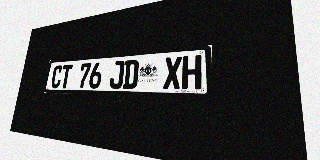6: (88, 62, 103, 88)
7: (77, 63, 91, 88)
C: (50, 65, 63, 88)
D: (123, 59, 139, 89)
H: (182, 55, 202, 89)
J: (109, 60, 125, 89)
T: (60, 64, 73, 88)
X: (163, 56, 182, 89)
